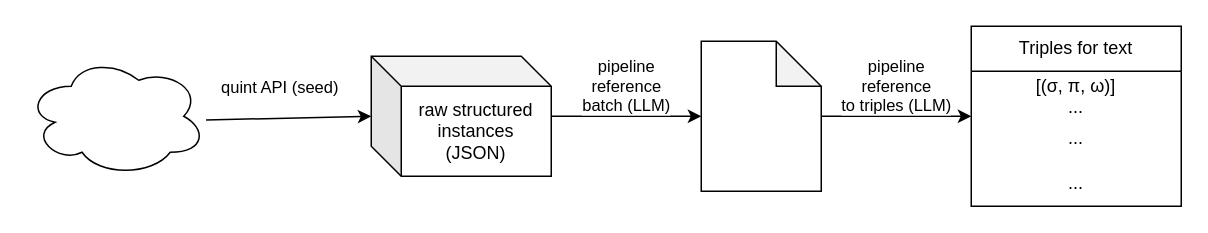
The diagram is 1208 pixels wide and 233 high, and some of its shapes have lost their labels. The shapes that lost their labels are listed below. From the top down, each one's box as (x1, y1, x2, y2) in pixels, then its label:
(25, 55, 206, 176): INTERNET
(700, 40, 821, 191): reference texts
